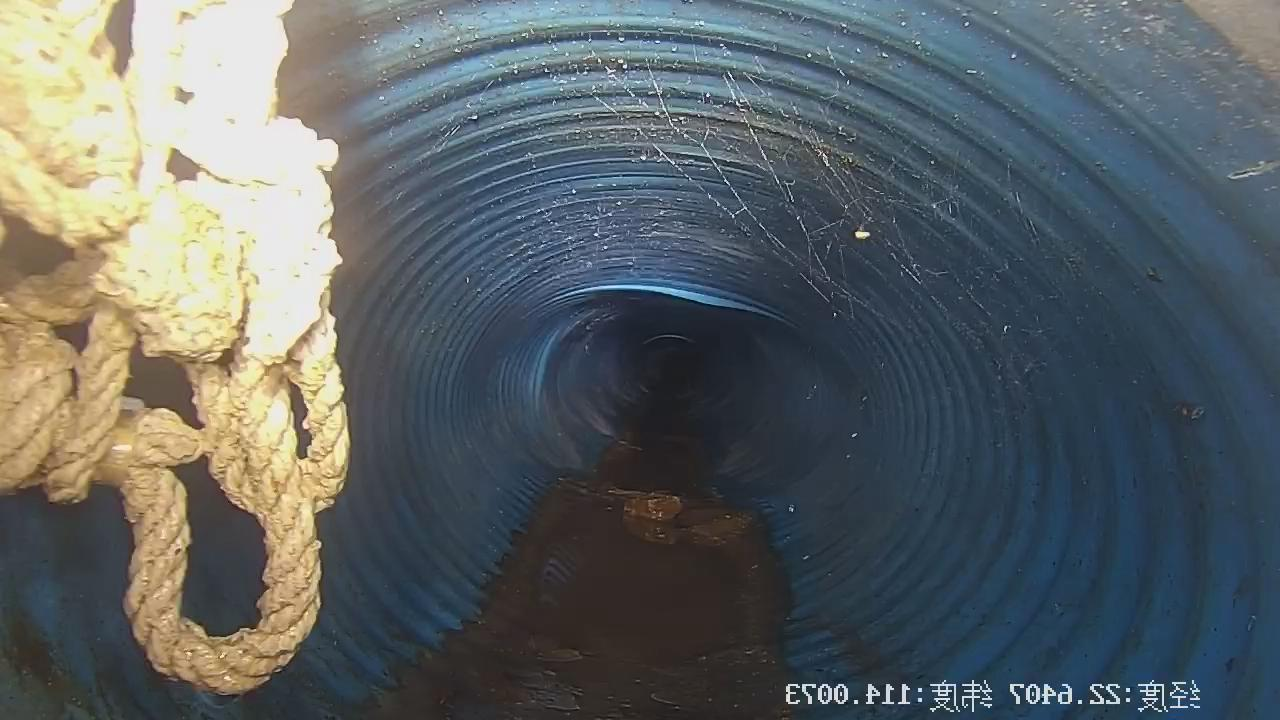BX: (455, 276, 878, 498)
